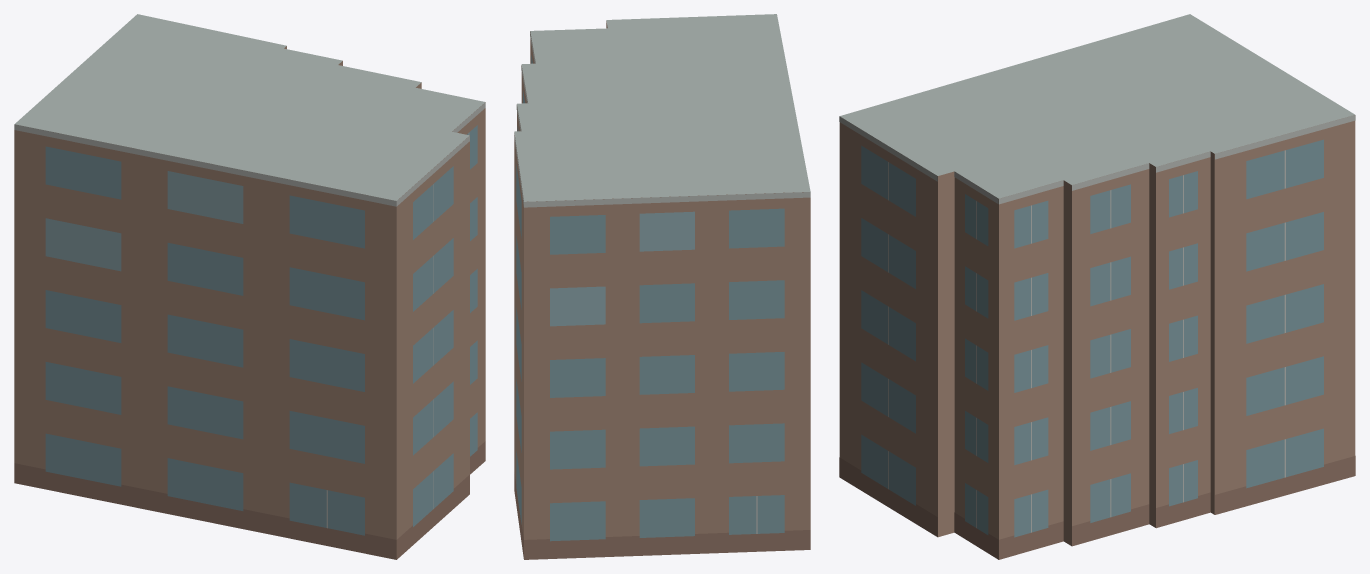
Rendered from survey-upis-32676124.glb.
The picture shows the model from 3 angles, left to right: view 1: azimuth 30°, elevation 25°; view 2: azimuth 150°, elevation 25°; view 3: azimuth 270°, elevation 25°; orthographic projection.
Visible parts, largest first — view 1: survey-upis-32676124.tmp; view 2: survey-upis-32676124.tmp; view 3: survey-upis-32676124.tmp.
Part boxes in pixels (x1,y1,x2,y2): survey-upis-32676124.tmp: (14, 14, 485, 559); survey-upis-32676124.tmp: (514, 14, 810, 559); survey-upis-32676124.tmp: (839, 14, 1355, 559).
Size of the model in its own units: 16.73 by 15.25 by 19.75.
